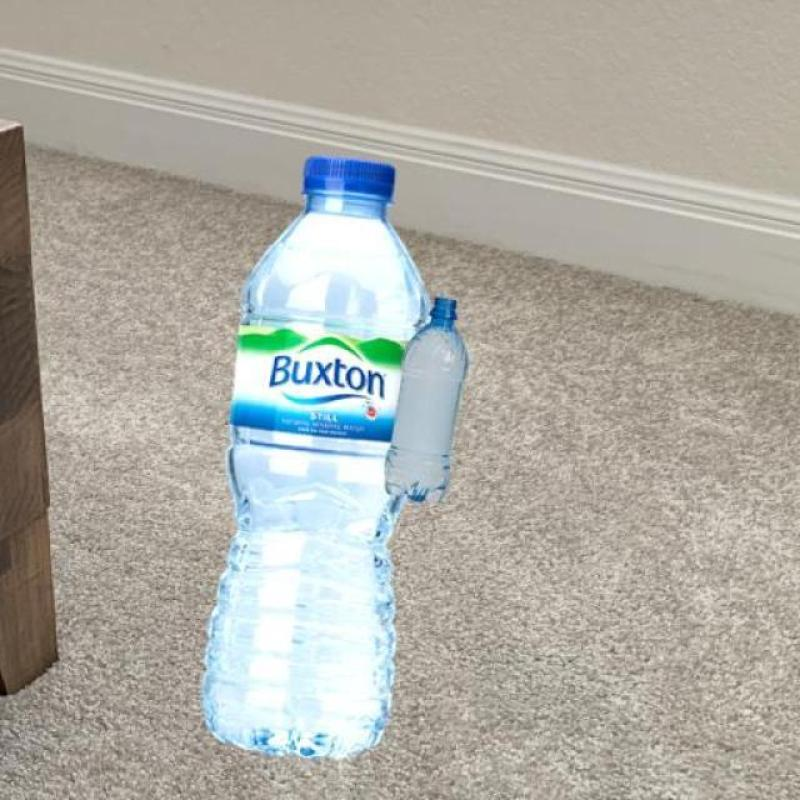botella: (198, 153, 433, 758), (384, 299, 467, 506)
